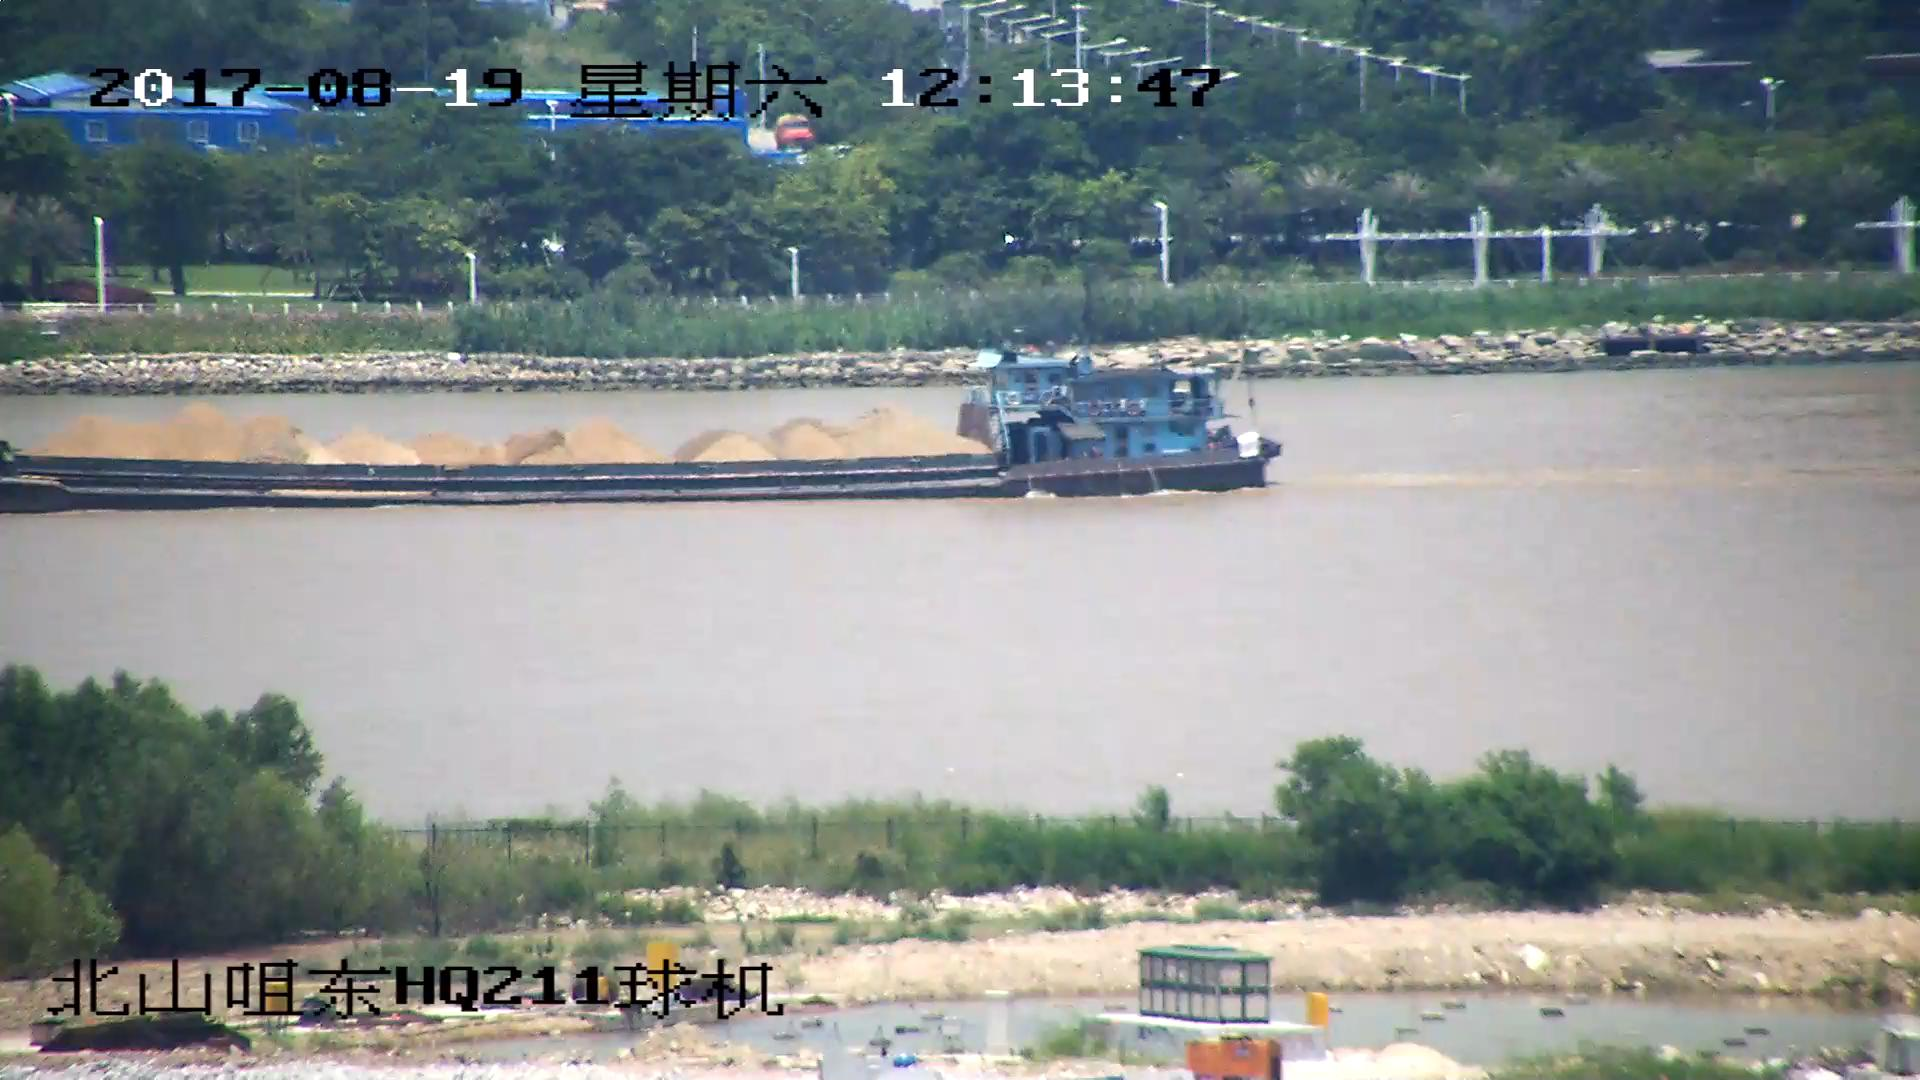ore carrier: (1, 346, 1281, 509)
